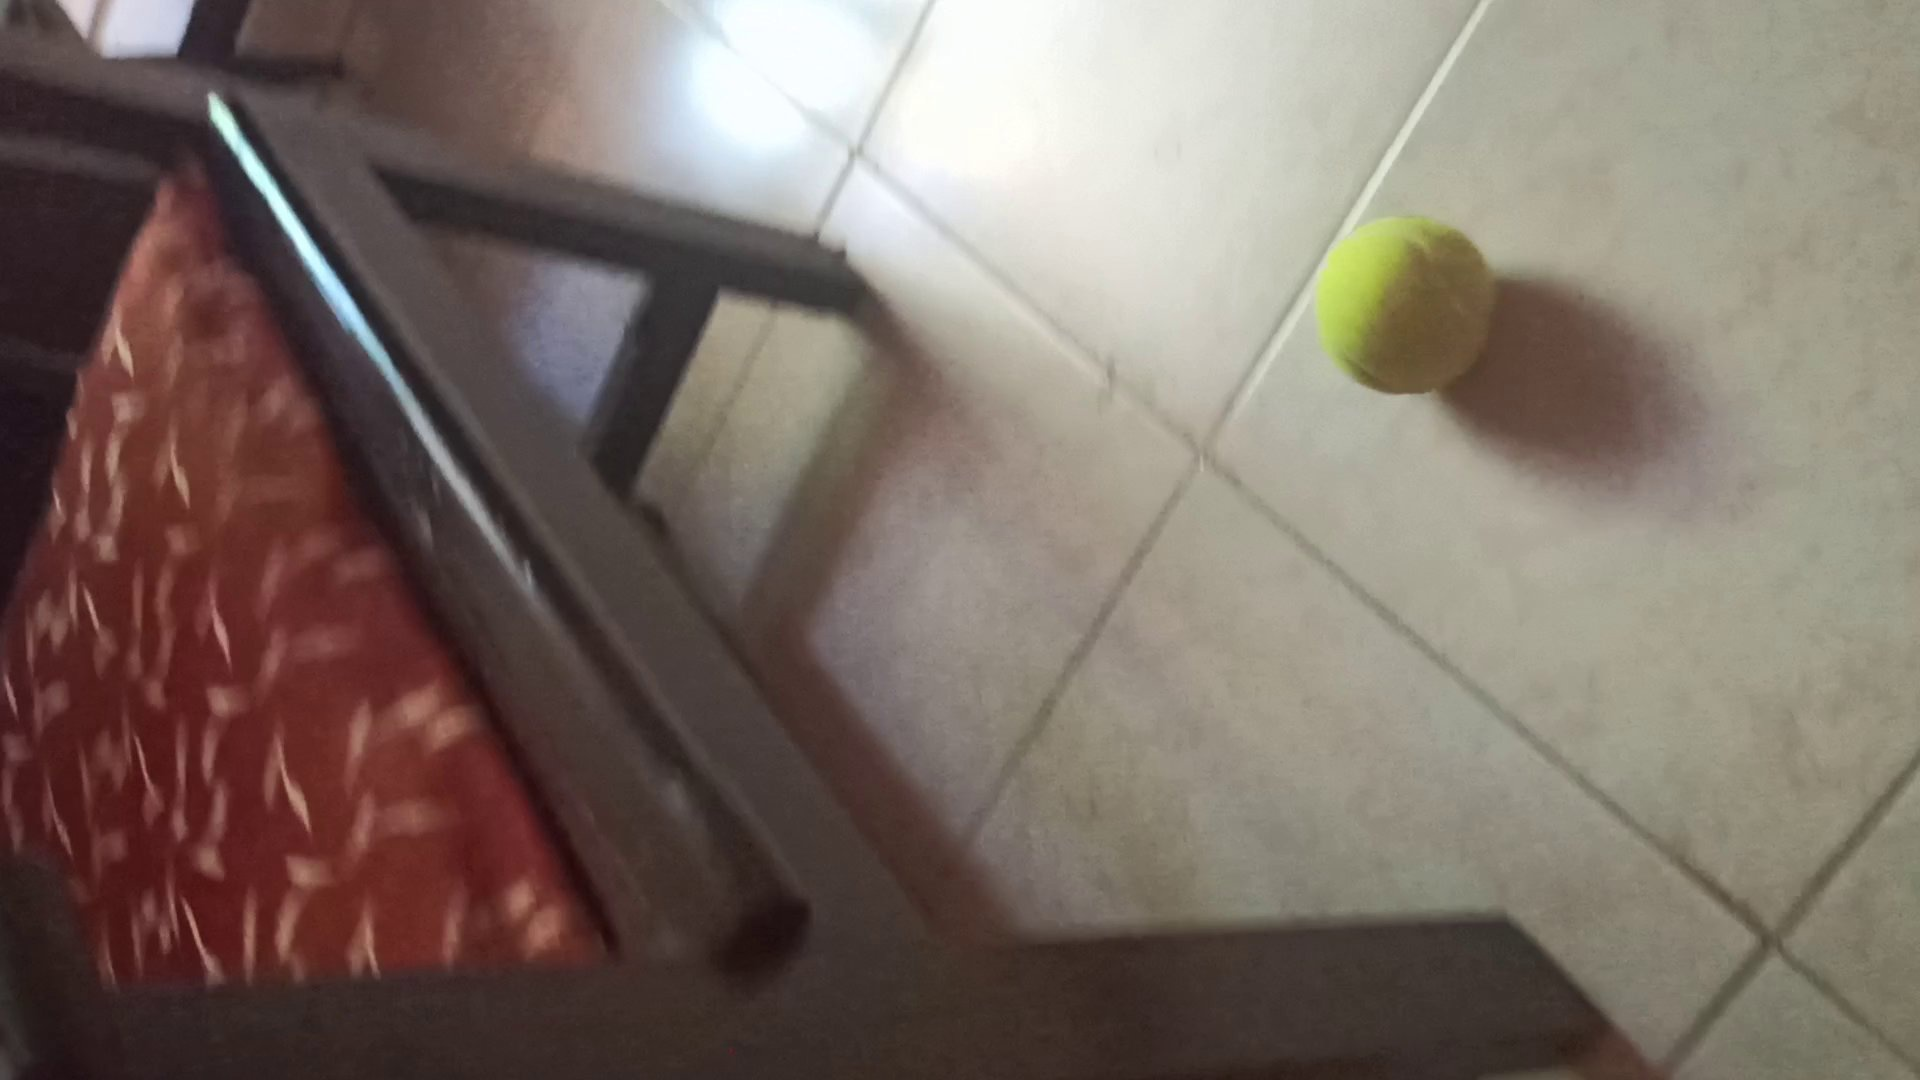Tennis-Ball: (1314, 216, 1494, 393)
